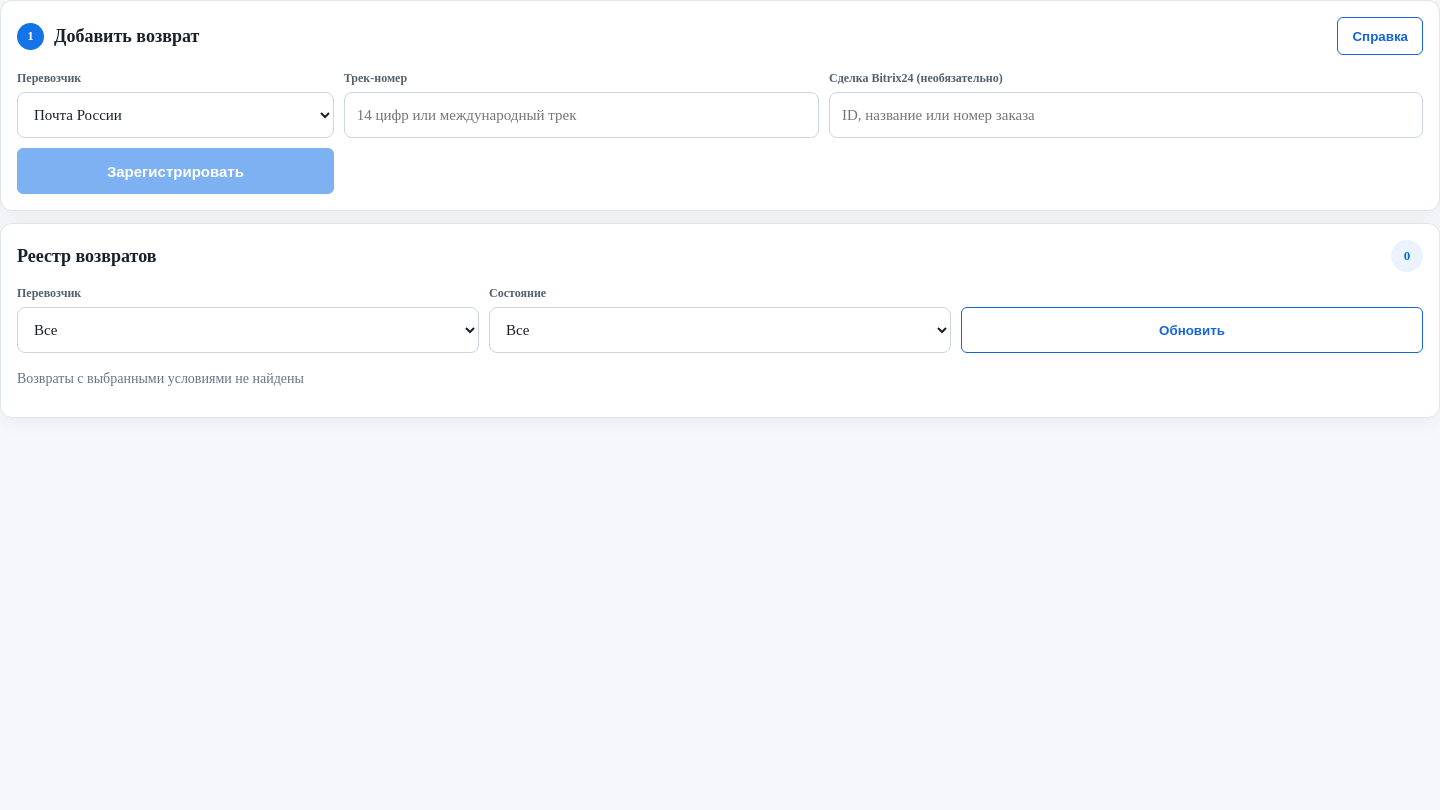
Test: CustomerReturnsWorkspace › регистрирует трек Почты России или СДЭК из Bitrix24
Expected: the text "Возвраты с выбранными условиями не найдены" is shown, [17, 371, 304, 386]
Select "СДЭК" in the dropdown named "Перевозчик возврата": [175, 115] box [17, 92, 334, 138]
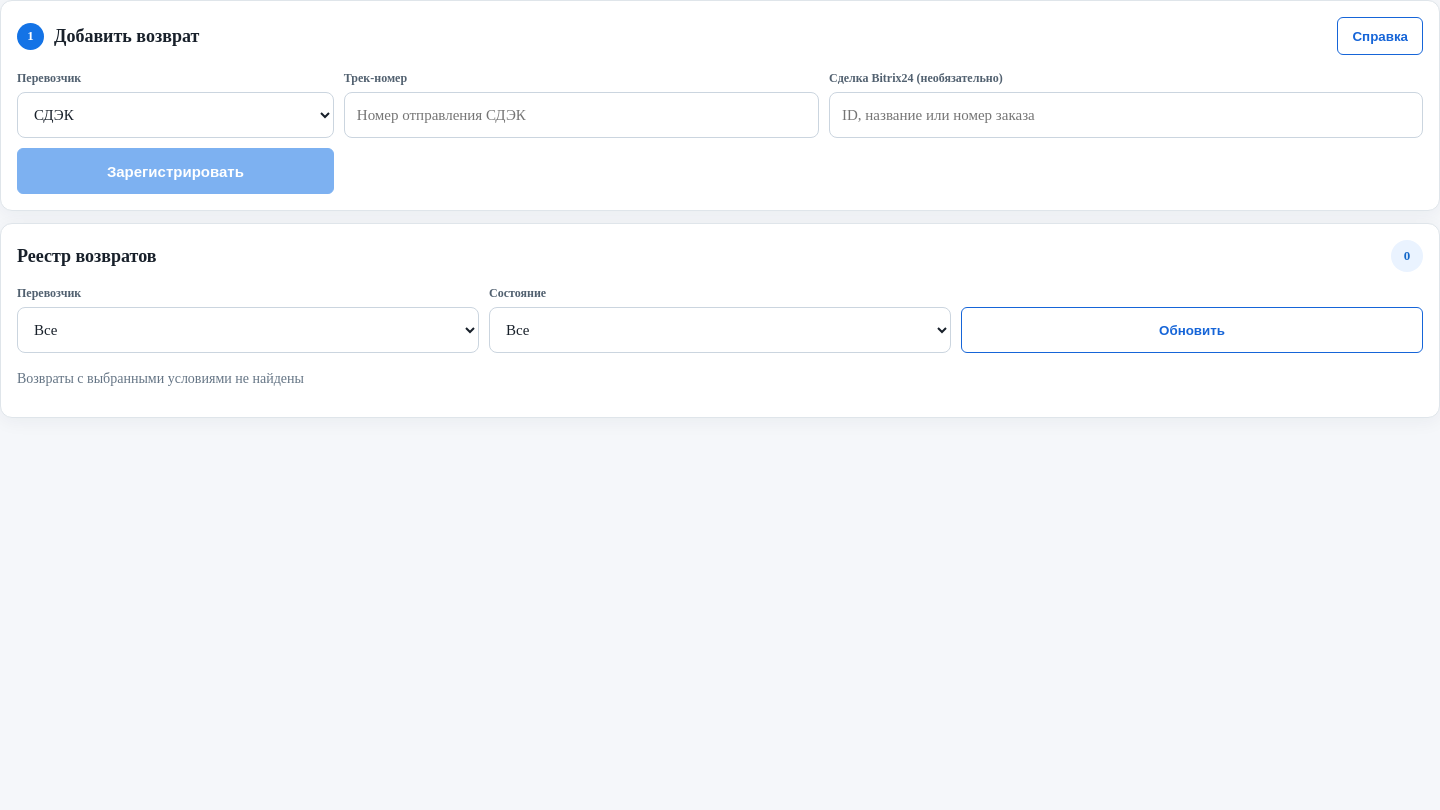
In the field named "Трек-номер возврата": [581, 115] box [344, 92, 819, 138], type "CDEK-3507"
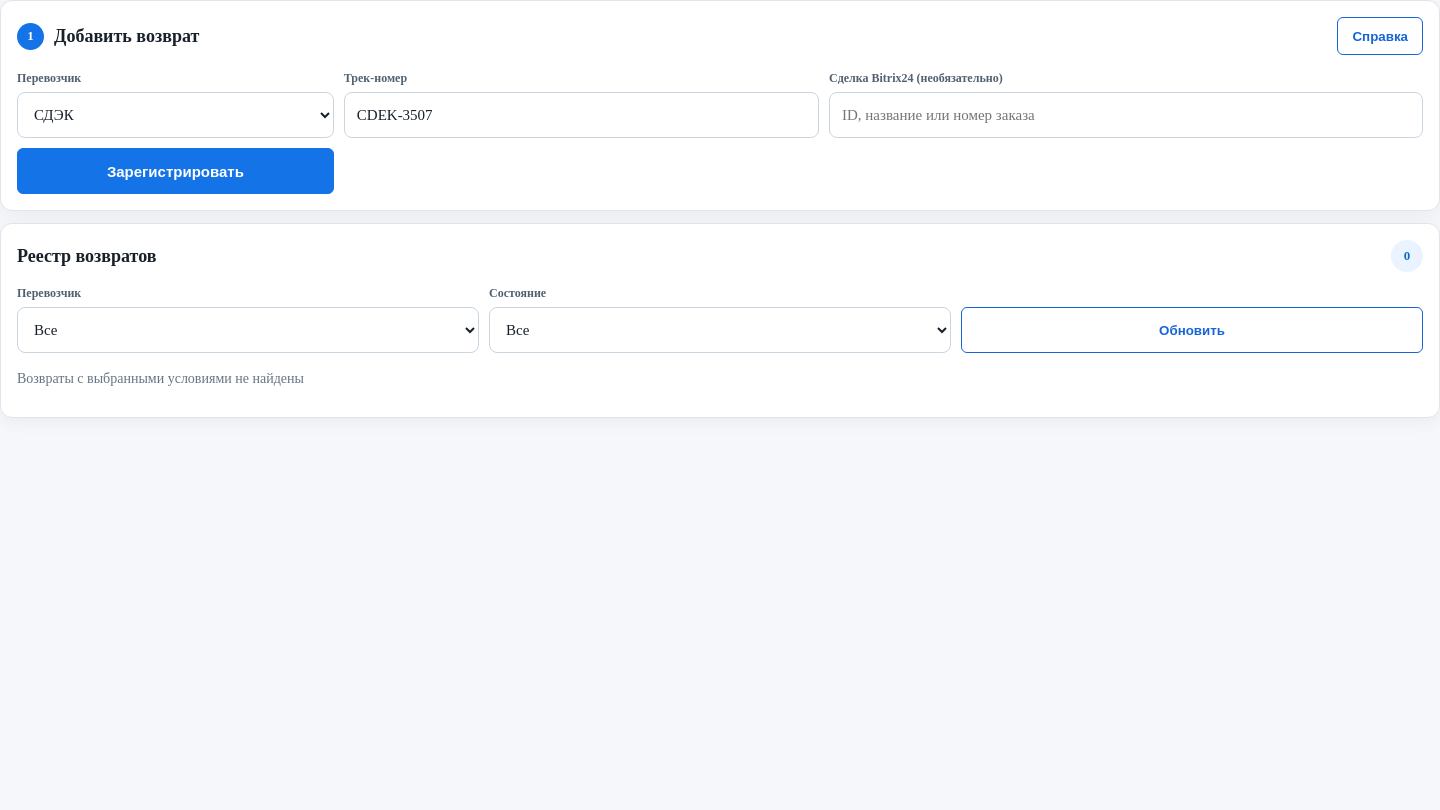
In the dropdown named "Сделка Bitrix24 (необязательно)": [1126, 115] box [829, 92, 1423, 138], type "241094"
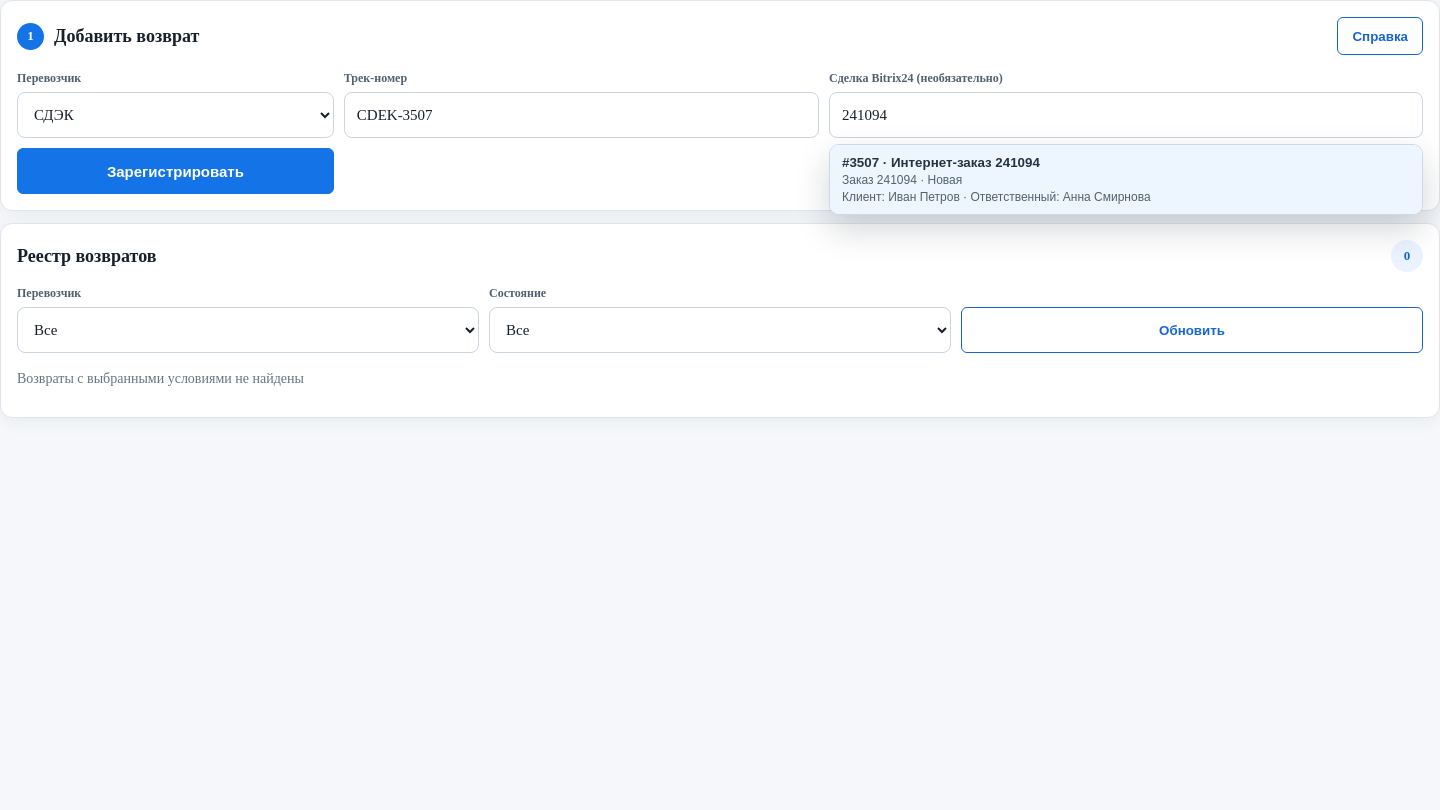
Click the option "Интернет-заказ 241094": [965, 162] box [830, 145, 1422, 214]
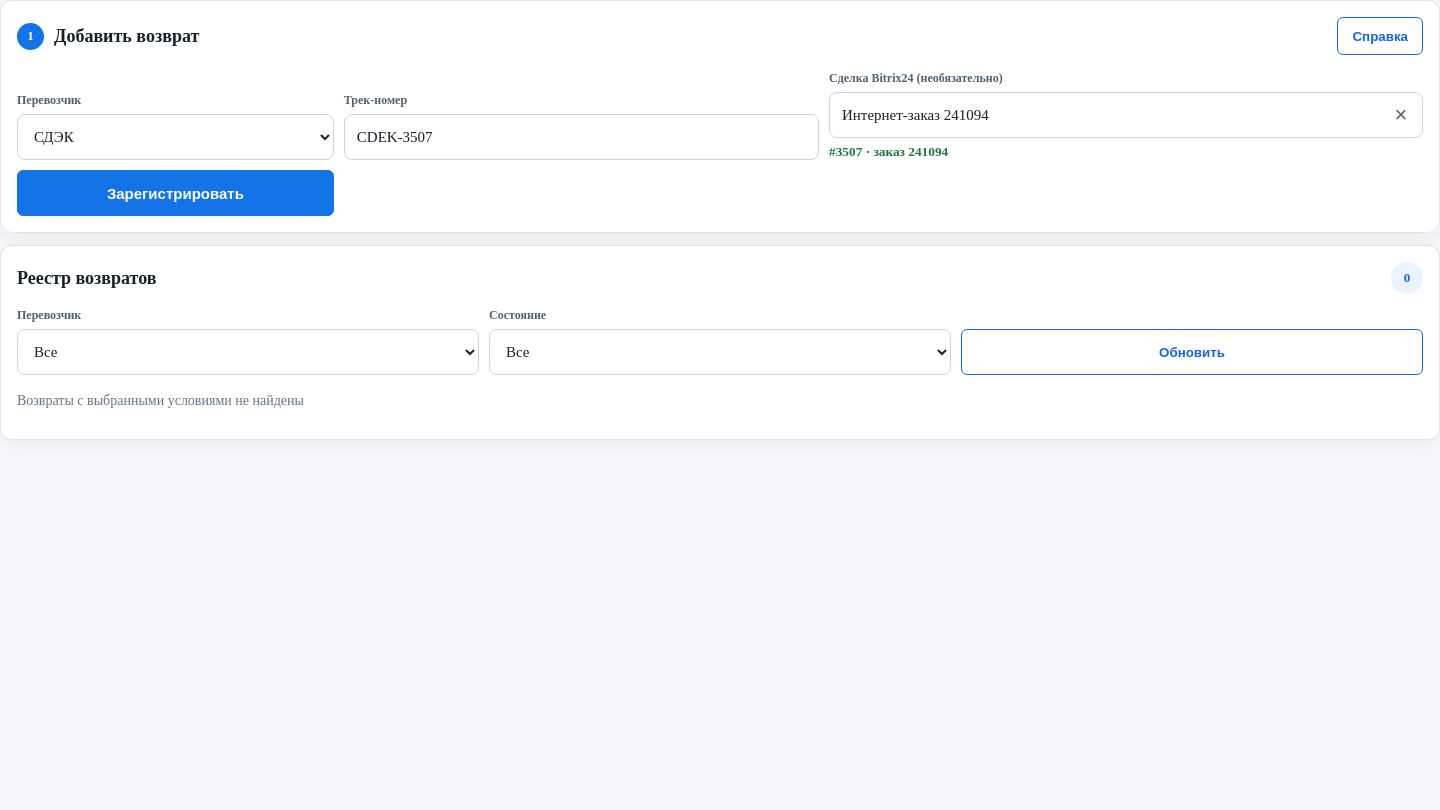
Click the button "Зарегистрировать": [175, 193] box [17, 170, 334, 216]
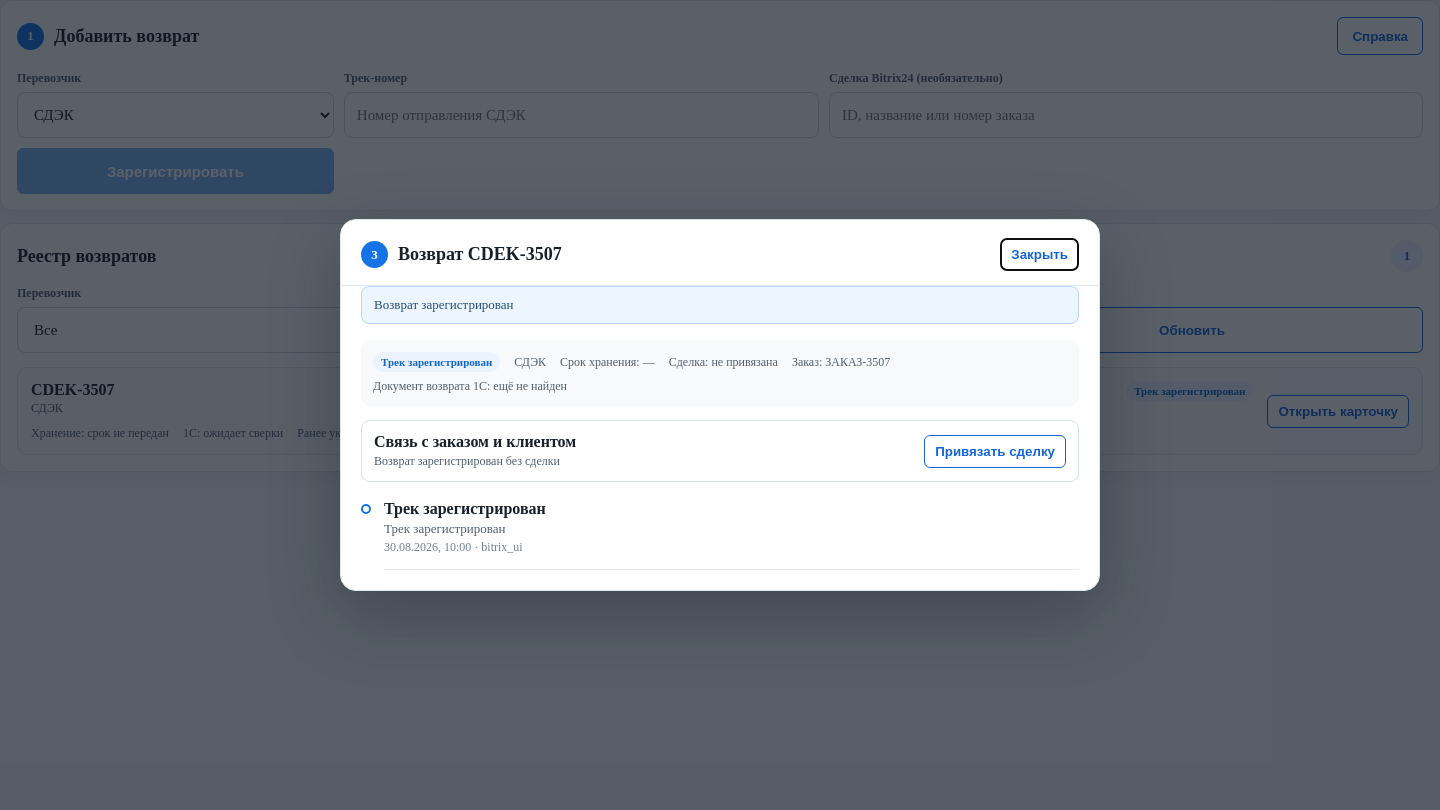
Expected: the text "Возврат зарегистрирован" is shown, [361, 286, 1079, 324]
Expected: the heading "Возврат CDEK-3507" is shown, [398, 244, 562, 265]
